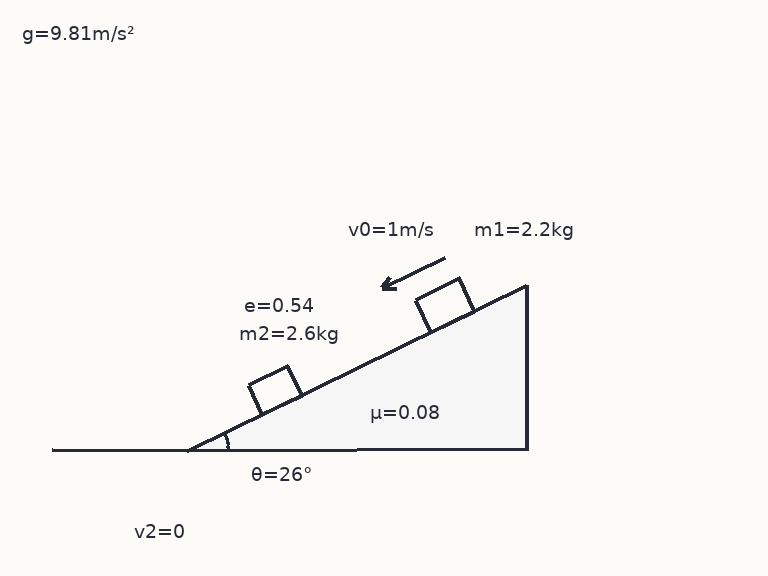block: (412, 276, 476, 334), (245, 364, 303, 416)
ramp: (186, 283, 528, 452)
